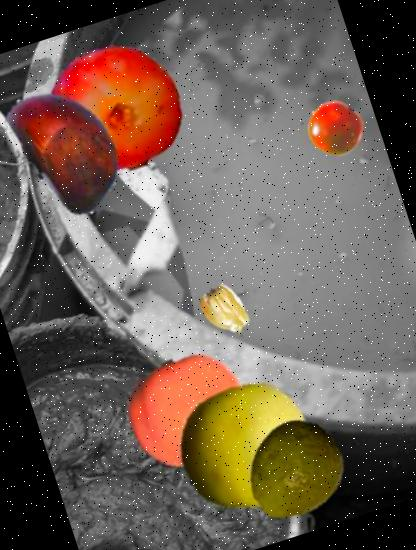Apple: (160, 362, 330, 532)
Chestnut: (0, 60, 156, 231)
Clementine: (111, 334, 263, 486)
Grape: (31, 25, 198, 193)
Guava: (228, 406, 358, 536)
Physalis: (192, 277, 260, 345)
Tomato: (300, 92, 372, 164)
